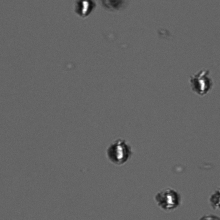Dead Cell: (100, 1, 127, 10)
Living Cell: (106, 139, 132, 165), (155, 187, 182, 210), (189, 70, 211, 96), (75, 1, 96, 18)
